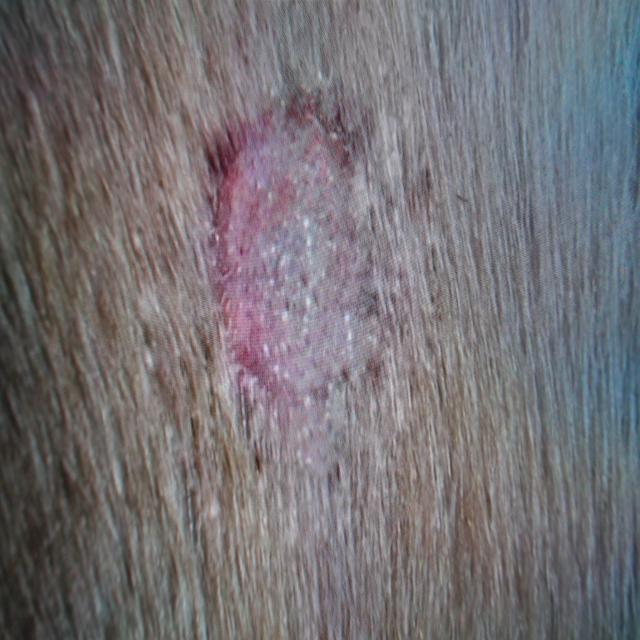ringworm: (183, 60, 422, 427)
